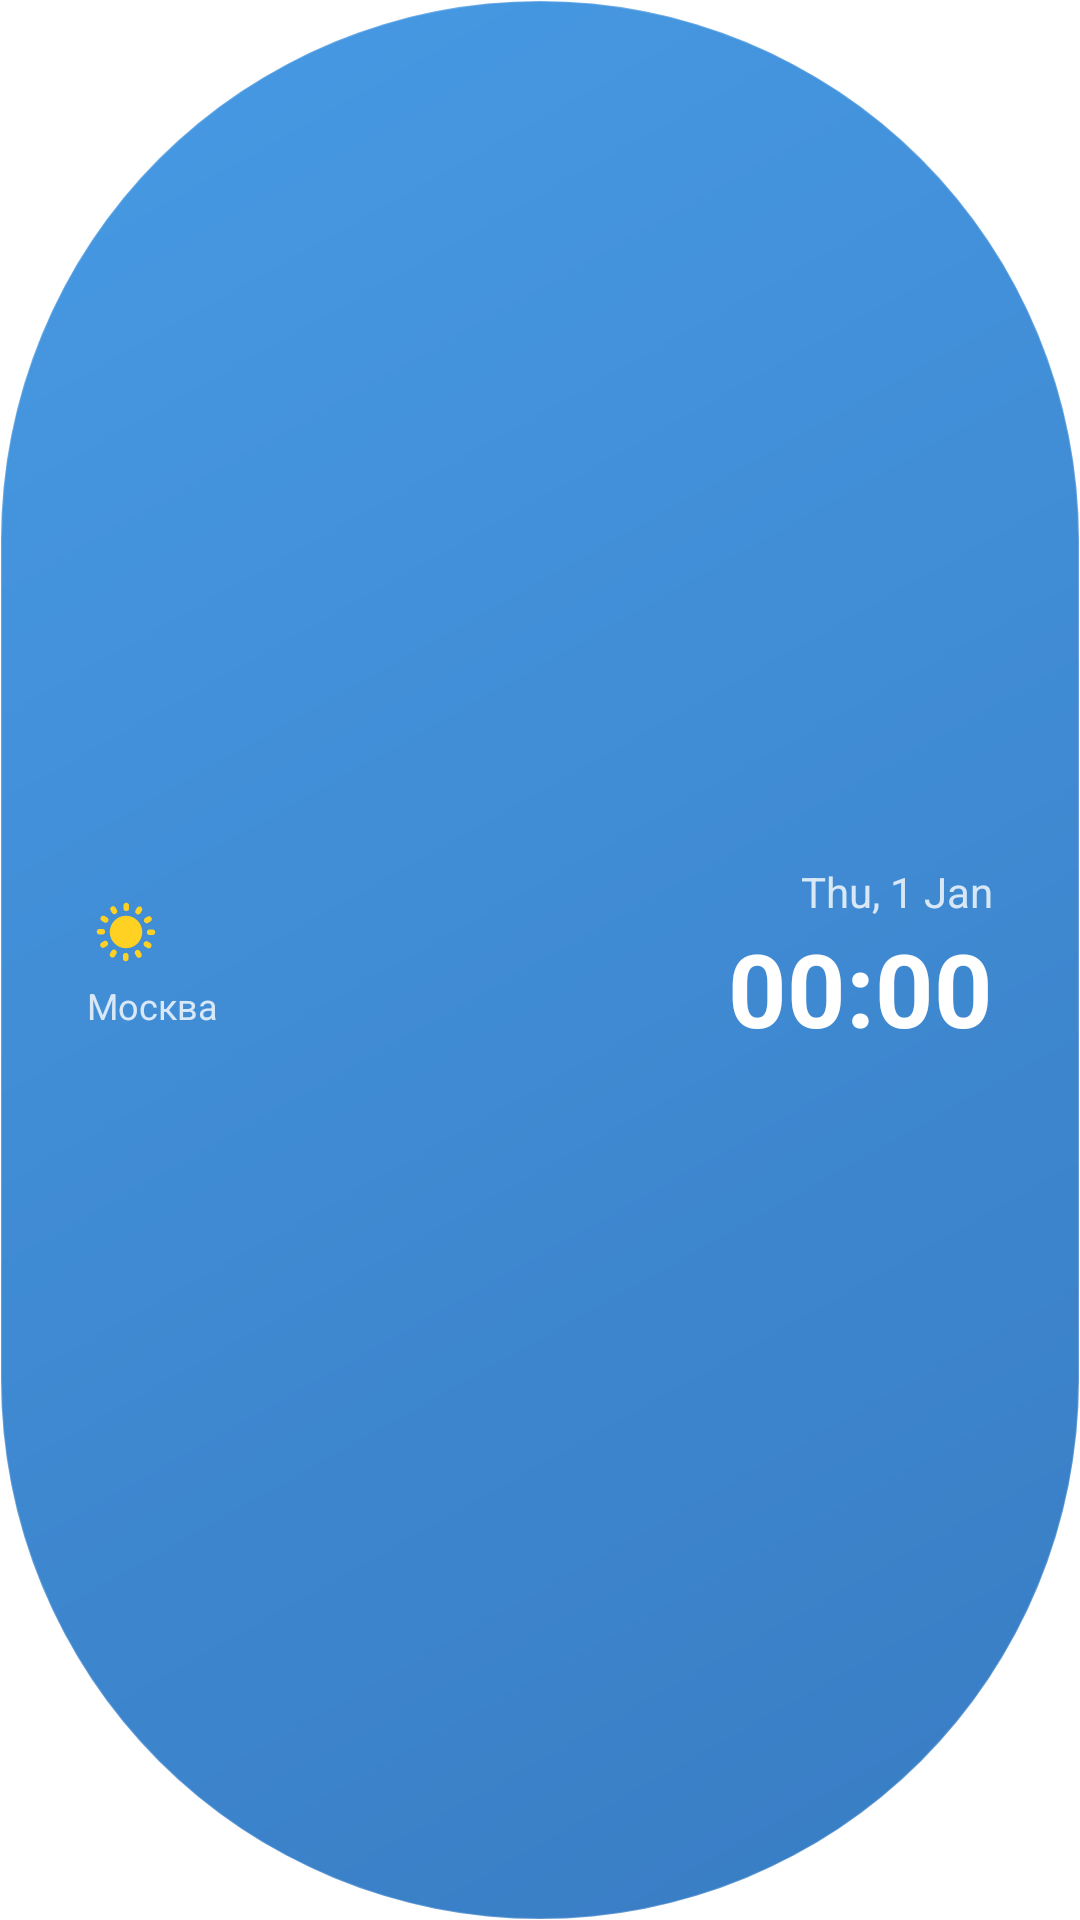

Where icons sit on this 1080*1920 app screen, as (x1, y1, x2, y2):
weather sunny: (96, 902, 156, 962)
